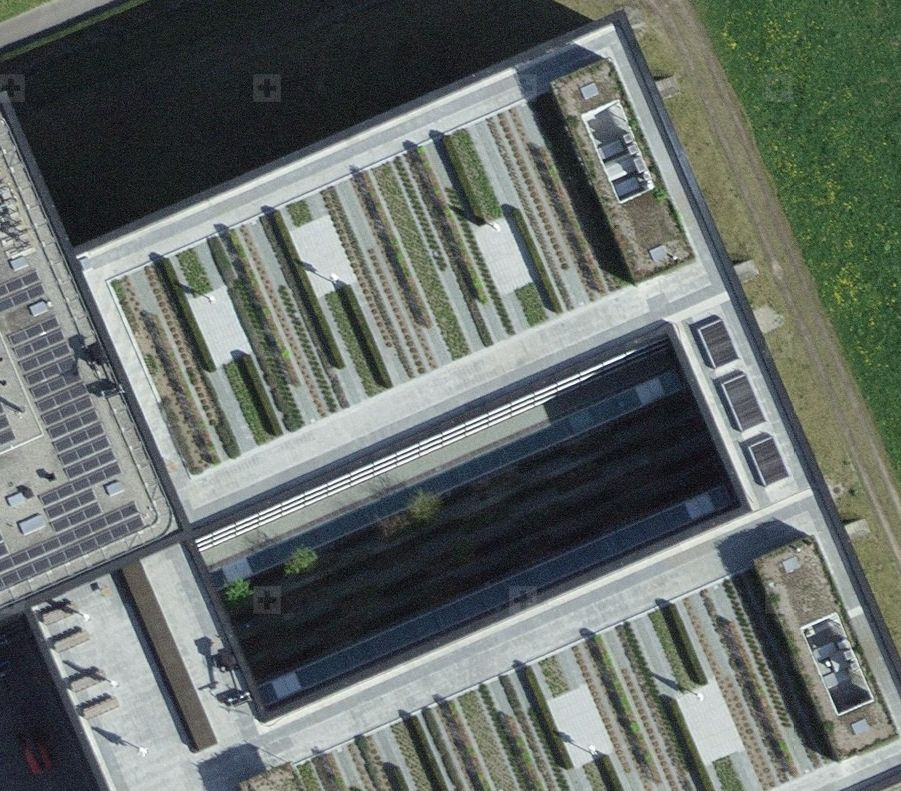solar: (1, 266, 143, 594)
